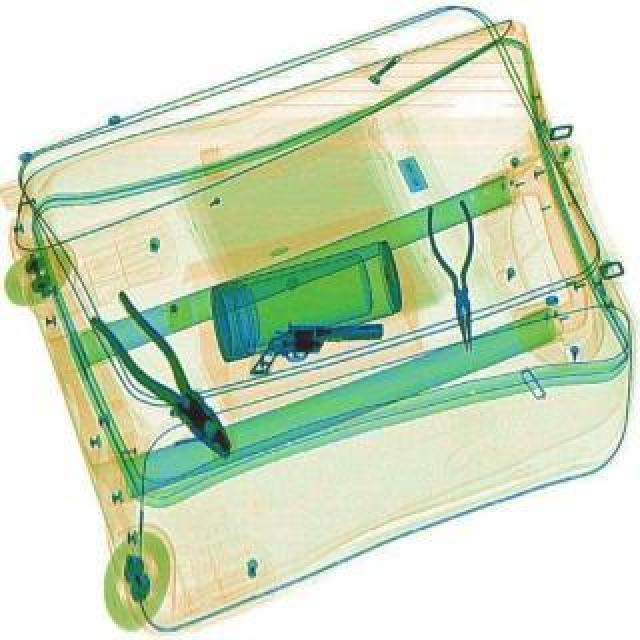gun: (250, 324, 382, 384)
wrench: (84, 292, 252, 472), (426, 200, 492, 358)
